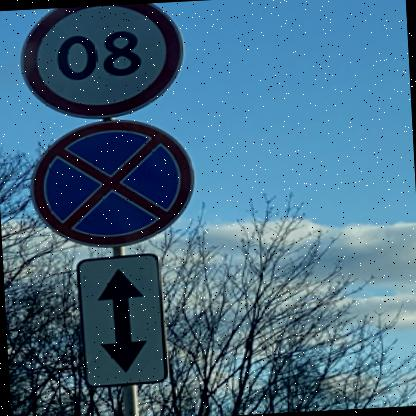speedlimit: (17, 1, 189, 122)
